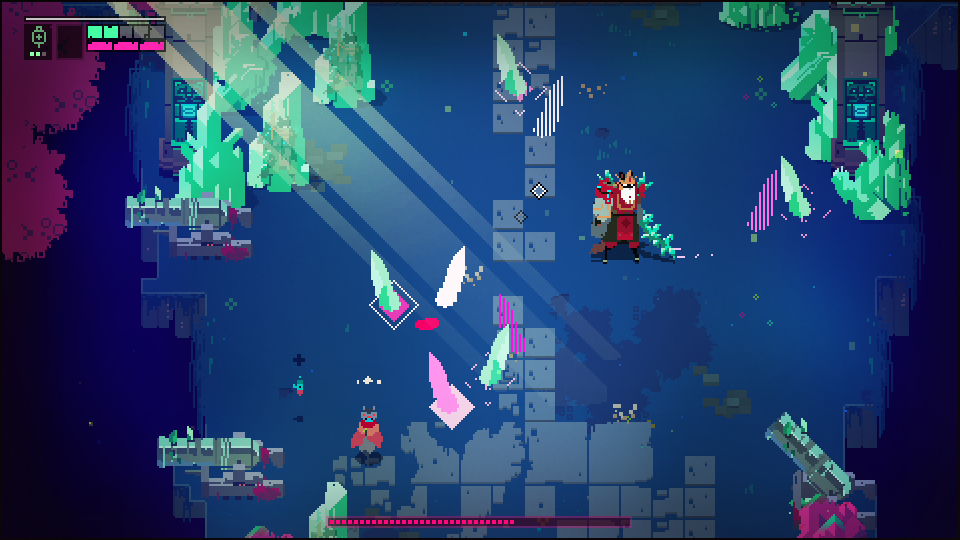hanged_crys: (493, 32, 528, 97), (477, 323, 512, 383), (780, 156, 811, 219), (368, 250, 401, 308), (429, 351, 457, 419), (434, 244, 464, 307)
hanged_man: (594, 168, 676, 263)
player: (349, 405, 385, 457)
